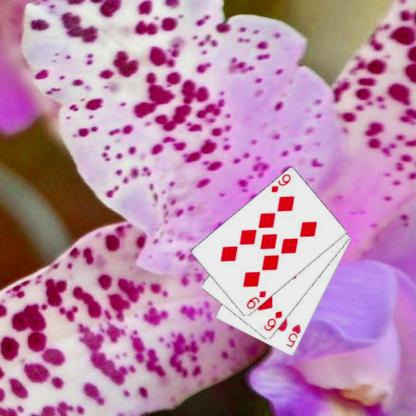5H: (283, 321, 302, 349)
6D: (261, 308, 283, 332)
9D: (244, 288, 267, 311), (269, 171, 292, 194)
